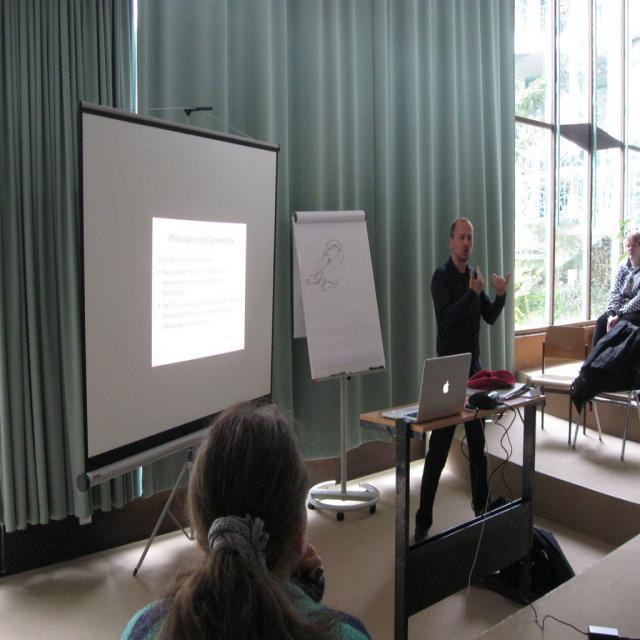others: (62, 86, 640, 565)
